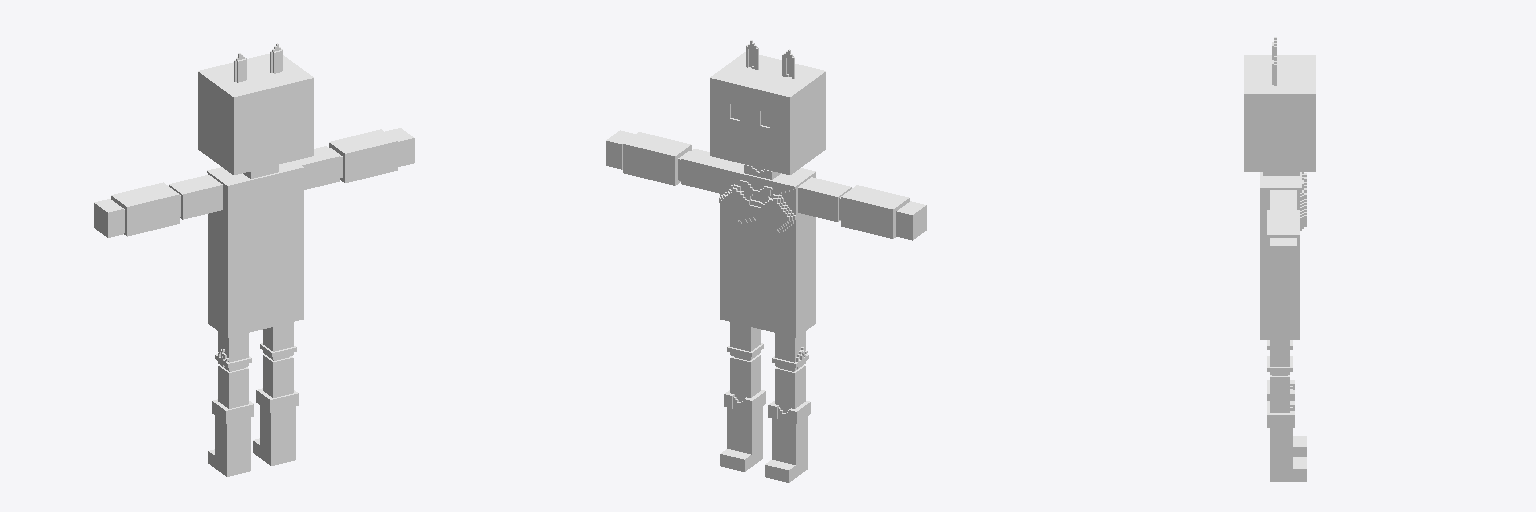
The model's file is uma.obj.
3 views of the same model, side by side, from view 1: azimuth 30°, elevation 25°; view 2: azimuth 150°, elevation 25°; view 3: azimuth 270°, elevation 25° (orthographic).
Parts seen in each view (by area): view 1: object 1; view 2: object 1; view 3: object 1.
Boxes of the visible parts, x1,y1,x2,y2 form: object 1: [94, 43, 414, 476]; object 1: [606, 40, 926, 482]; object 1: [1244, 37, 1315, 481].
Bounding box in the file's own units: 15.2 × 19.8 × 3.1.